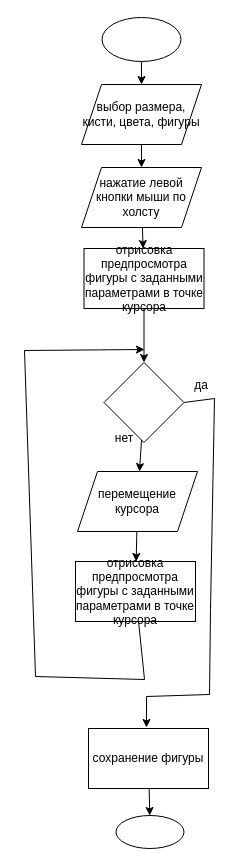
Image size: 249x866. Some labels were removed from this diagram. The shapes that lost their labels are listed below. From the top down, each one's box as (x1, y1, x2, y2) in pixels, then its label:
(101, 16, 181, 62): начало
(103, 362, 184, 442): левая кнопка отпущена?
(115, 814, 184, 848): конец
